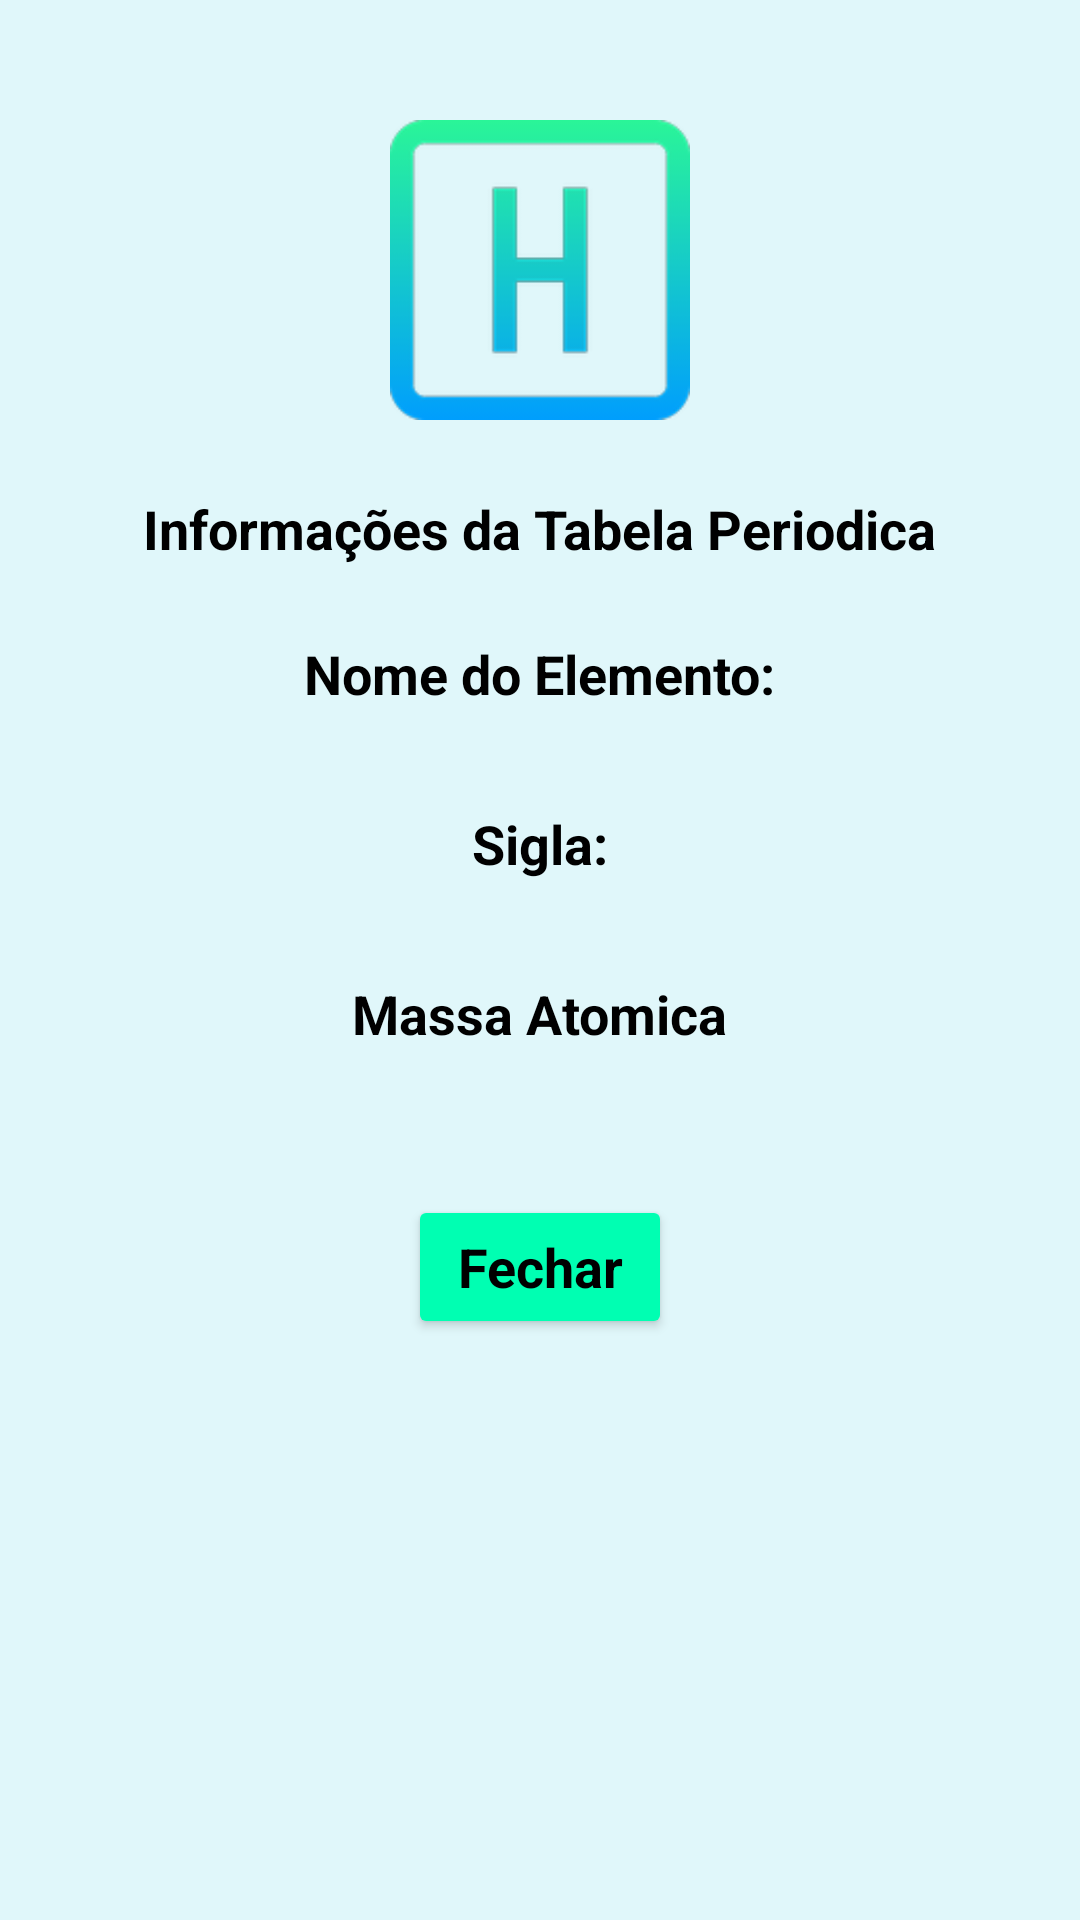

Named icons in this screenshot (1080 x 1920) and their centers, (x=x, y=y):
hidrogenio: (x=540, y=270)
